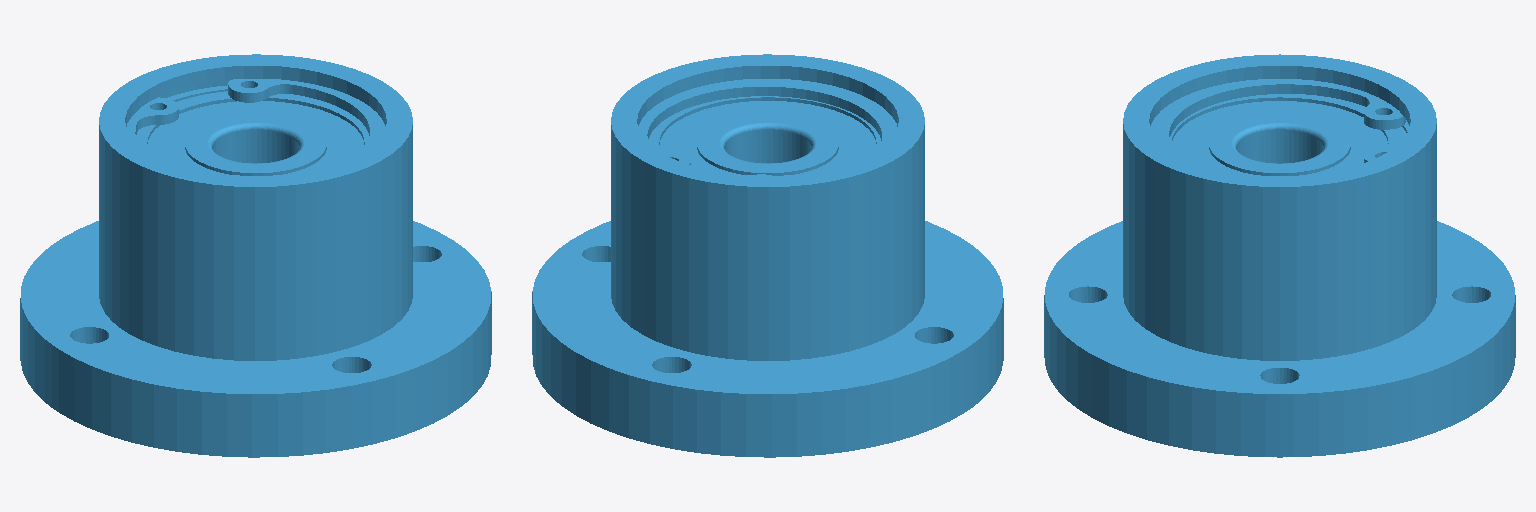
The robot description file, URDF, robot "linemod_template":
<?xml version="1.0" ?>
<!-- =================================================================================== -->
<!-- |    This document was autogenerated by xacro from linemod_template.xacro         | -->
<!-- |    EDITING THIS FILE BY HAND IS NOT RECOMMENDED                                 | -->
<!-- =================================================================================== -->
<!-- Revolute-Revolute Manipulator -->
<robot name="linemod_template" xmlns:xacro="http://www.ros.org/wiki/xacro">
  <!-- Space btw top of beam and the each joint -->
  <!-- ros_control plugin -->
  <gazebo>
    <plugin filename="libgazebo_ros_control.so" name="gazebo_ros_control">
      <robotNamespace>/linemod_template</robotNamespace>
      <robotSimType>gazebo_ros_control/DefaultRobotHWSim</robotSimType>
    </plugin>
  </gazebo>
  <gazebo reference="mesh_model_link">
  </gazebo>
  <!-- <xacro:include filename="$(find abe_kinect_description)/urdf/abe_kinect.xacro" /> -->
  <!-- Used for fixing robot to Gazebo 'base_link' -->
  <link name="world"/>
  <!-- <link name="camera_depth_frame"/> -->
  <!-- object -->
  <joint name="mesh_model_joint" type="floating">
    <axis xyz="0 0 0"/>
    <!-- for object1 -->
    <!-- <origin xyz="-0.06 -0.075 -0.08" rpy="0 0 0"/> -->
    <origin xyz="0.0 0.0 0.0" rpy="0 0 0"/>

    <parent link="world"/>
    <!-- <parent link="camera_depth_frame"/> -->
    <child link="mesh_model_link"/>
  </joint>
  <link name="mesh_model_link">
    <collision>
      <origin rpy="0 0 0" xyz="0.1 0.1 0"/>
      <geometry>
        <box size="0.1 0.1 0.1"/>
      </geometry>
    </collision>
    <visual>
      <geometry>

       <mesh filename="package://description_of_linemodtemp/meshes/taskboard_parts/dae/Bearing.dae"/>
       <!-- <mesh filename="package://description_of_linemodtemp/meshes/taskboard_parts/dae/Pin.dae"/> -->
       <!-- <mesh filename="package://description_of_linemodtemp/meshes/taskboard_parts/dae/Pin_.dae"/> -->
       <!-- <mesh filename="package://description_of_linemodtemp/meshes/taskboard_parts/dae/Spacer17_50.dae"/> -->
       <!-- <mesh filename="package://description_of_linemodtemp/meshes/taskboard_parts/dae/Spacer9_50.dae"/> -->
       <!-- <mesh filename="package://description_of_linemodtemp/meshes/taskboard_parts/dae/Spacer9_50_.dae"/> -->
       <!-- <mesh filename="package://description_of_linemodtemp/meshes/taskboard_parts/dae/Drive_Shaft.dae"/> -->
       <!-- <mesh filename="package://description_of_linemodtemp/meshes/taskboard_parts/dae/Drive_Shaft_.dae"/> -->
       <!-- <mesh filename="package://description_of_linemodtemp/meshes/taskboard_parts/dae/Belt.dae"/> -->
       <!-- <mesh filename="package://description_of_linemodtemp/meshes/taskboard_parts/dae/M6_Bolt.dae"/> -->
       <!-- <mesh filename="package://description_of_linemodtemp/meshes/taskboard_parts/dae/M6_Bolt_.dae"/> -->
       <!-- <mesh filename="package://description_of_linemodtemp/meshes/taskboard_parts/dae/M6_Nut.dae"/> -->
       <!-- <mesh filename="package://description_of_linemodtemp/meshes/taskboard_parts/dae/M6_Nut.dae_"/> -->
       <!-- <mesh filename="package://description_of_linemodtemp/meshes/taskboard_parts/dae/M12_Nut.dae"/> -->
       <!-- <mesh filename="package://description_of_linemodtemp/meshes/taskboard_parts/dae/M12_Nut_.dae"/> -->
       <!-- <mesh filename"package://description_of_linemodtemp/meshes/taskboard_parts/dae/6mm_Washer.dae"/> -->
       <!-- <mesh filename="package://description_of_linemodtemp/meshes/taskboard_parts/dae/6mm_Washer_.dae"/> -->
       <!-- <mesh filename="package://description_of_linemodtemp/meshes/taskboard_parts/dae/10mm_Washer.dae"/> -->
       <!-- <mesh filename="package://description_of_linemodtemp/meshes/taskboard_parts/dae/10mm_Washer_.dae"/> -->
       <!-- <mesh filename="package://description_of_linemodtemp/meshes/taskboard_parts/dae/M3_6.dae"/> -->
       <!-- <mesh filename="package://description_of_linemodtemp/meshes/taskboard_parts/dae/M4_6.dae"/> -->
       <!-- <mesh filename="package://description_of_linemodtemp/meshes/taskboard_parts/dae/Motor_Pulley.dae"/> -->
       <!-- <mesh filename="package://description_of_linemodtemp/meshes/taskboard_parts/dae/End_Cap.dae"/> -->
       <!-- <mesh filename="package://description_of_linemodtemp/meshes/taskboard_parts/dae/End_Cap_.dae"/> -->

       <!-- <mesh filename="package://description_of_linemodtemp/meshes/taskboard_parts/dae/TB_Plate.dae"/> -->
       <!-- <mesh filename="package://description_of_linemodtemp/meshes/taskboard_parts/dae/Mat.dae"/> -->

       
       
      </geometry>
    </visual>
    <inertial>
      <mass value="1e-5"/>
      <origin rpy="0 0 0" xyz="0.1 0.1 0"/>
      <inertia ixx="1e-6" ixy="0" ixz="0" iyy="1e-6" iyz="0" izz="1e-6"/>
    </inertial>
  </link>
</robot>

--- Facts derived from the render (not from the file) ---
3 views of the same robot in one strip: view 1: azimuth 30°, elevation 25°; view 2: azimuth 150°, elevation 25°; view 3: azimuth 270°, elevation 25° (orthographic).
Robot: linemod_template — 2 links, 1 joints (1 floating); root link world; default pose: all joints at 0.
Links seen in each view (by area): view 1: mesh_model_link; view 2: mesh_model_link; view 3: mesh_model_link.
Link boxes in pixels (left/top/right/bottom): mesh_model_link: left=20, top=54, right=491, bottom=457; mesh_model_link: left=532, top=54, right=1003, bottom=457; mesh_model_link: left=1044, top=54, right=1515, bottom=457.
Bounding box of the posed robot: 0.054 × 0.054 × 0.03 m (x, y, z).
Meshes: 1 distinct files referenced, 1 mesh visuals loaded (1 Collada DAE).